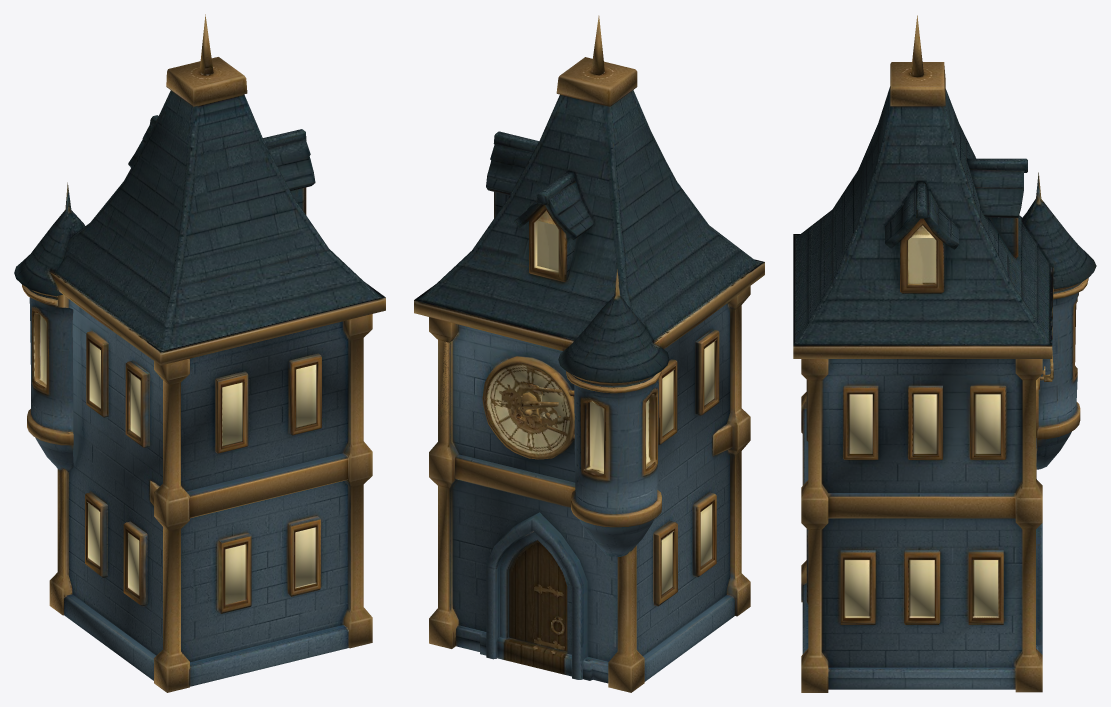
The model's file is tripo_convert_fda750d0-0933-4382-9bdd-c89f8461afbc.fbx.
3 views of the same model, side by side, from view 1: azimuth 30°, elevation 25°; view 2: azimuth 150°, elevation 25°; view 3: azimuth 270°, elevation 25° (orthographic). The views are drawn at different scales.
Visible parts, largest first — view 1: tripo_node_fda750d0; view 2: tripo_node_fda750d0; view 3: tripo_node_fda750d0.
Boxes of the visible parts, x1,y1,x2,y2 form: tripo_node_fda750d0: (14,14,385,692); tripo_node_fda750d0: (414,15,764,692); tripo_node_fda750d0: (793,15,1096,692).
Size of the model in its own units: 0.4121 by 0.998 by 0.4395.
1 material, 1 textured.
